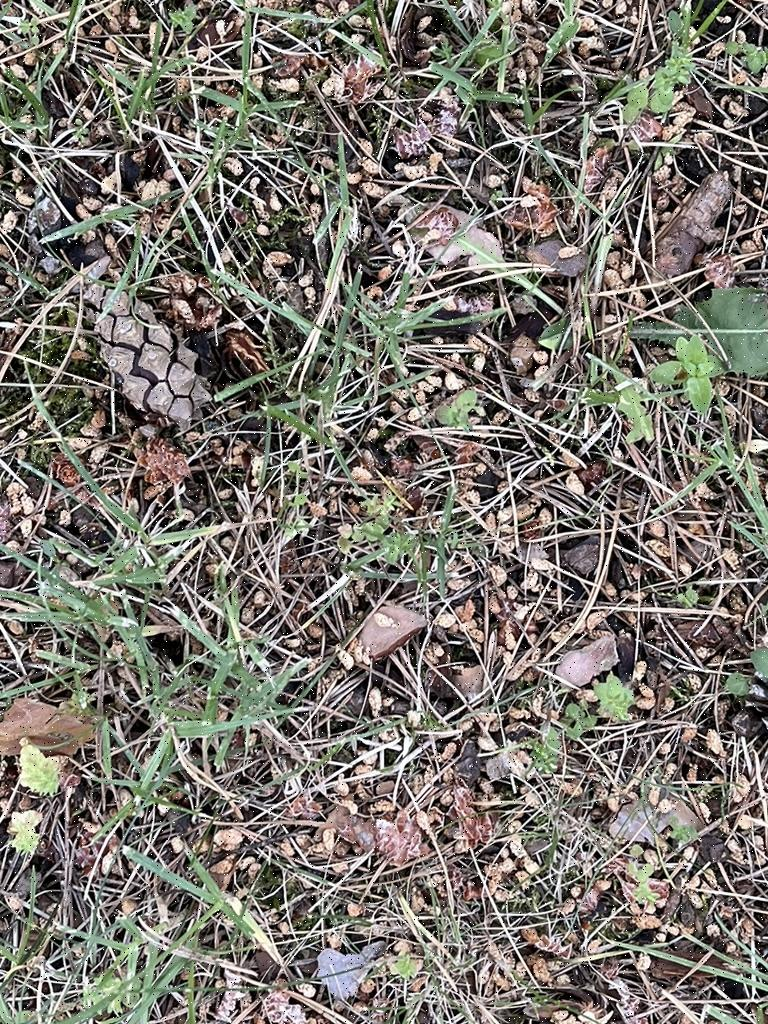pine: (84, 268, 224, 438)
